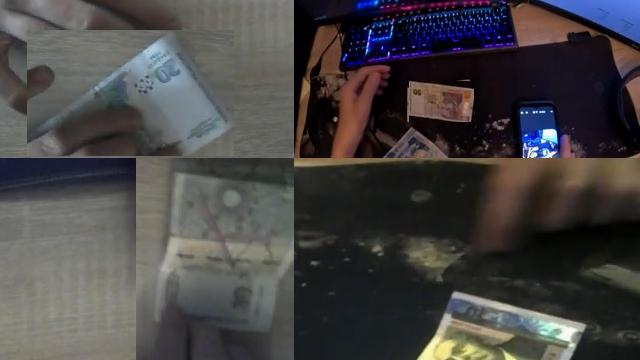10leva: (151, 158, 294, 360), (434, 331, 549, 360)
20leva: (27, 30, 234, 156), (384, 127, 449, 158)
50leva: (409, 81, 473, 122)
